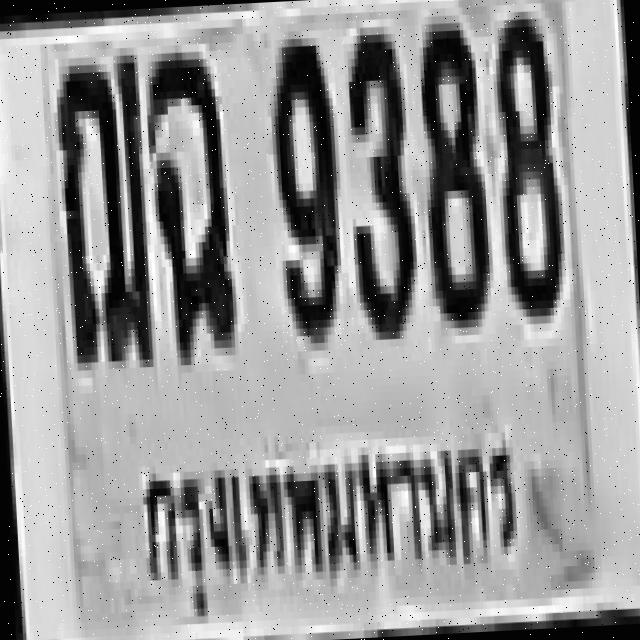18ChorChing: (144, 43, 235, 359)
21ChorChoe: (51, 47, 153, 364)
3: (339, 26, 417, 334)
8: (414, 14, 488, 322), (490, 7, 564, 314)
9: (268, 30, 342, 338)
Bangkok: (126, 412, 528, 606)
